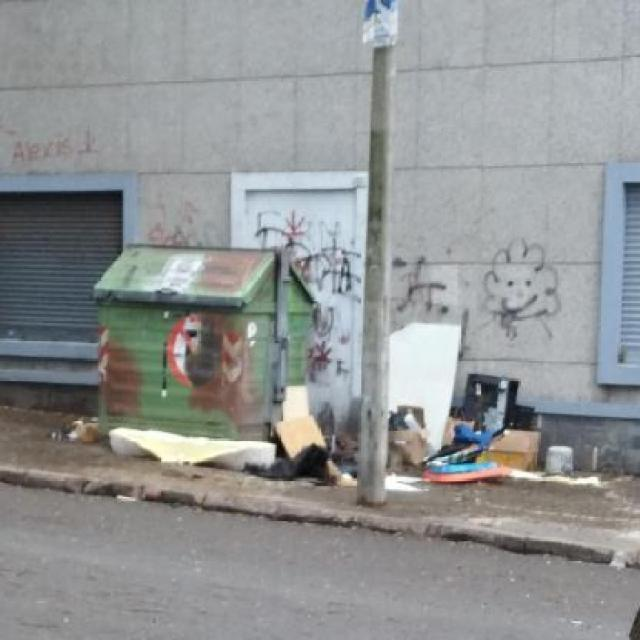garbage: (352, 294, 628, 511), (68, 419, 377, 489)
